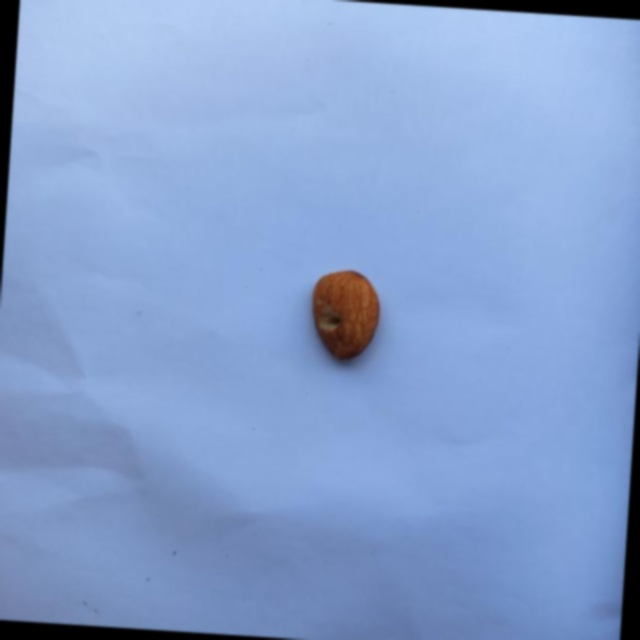grade3: (303, 264, 384, 367)
